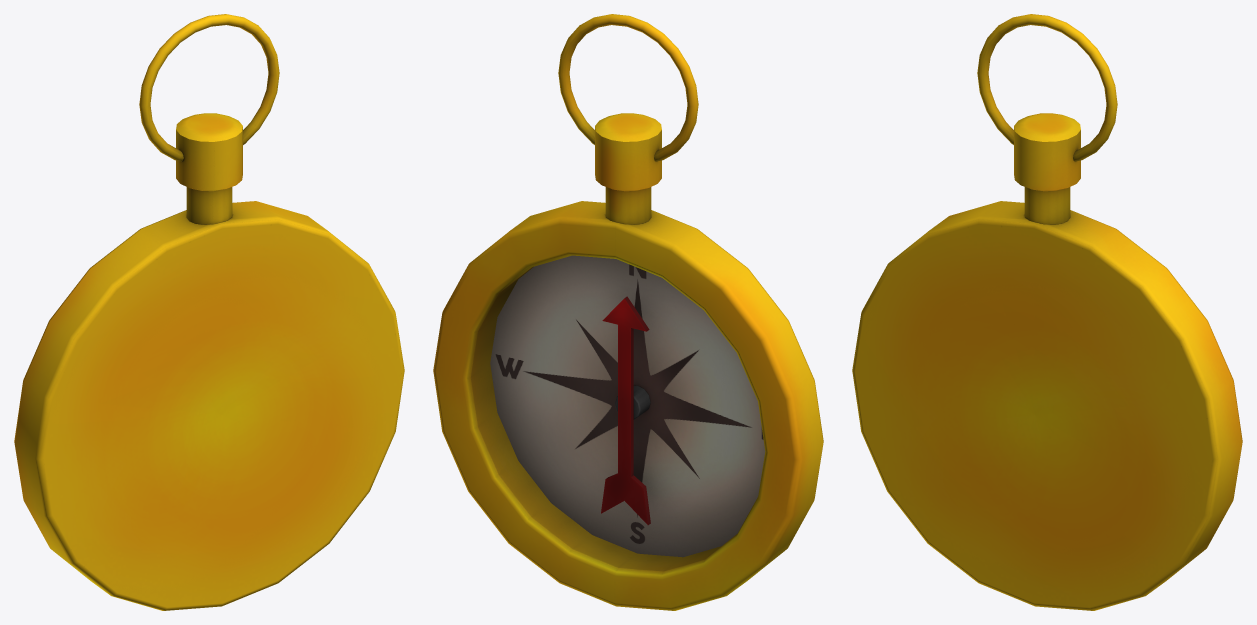
File: Compass.fbx
The picture shows the model from 3 angles, left to right: view 1: azimuth 30°, elevation 25°; view 2: azimuth 150°, elevation 25°; view 3: azimuth 330°, elevation 25°; orthographic projection.
Visible parts, largest first — view 1: Compass; view 2: Compass; view 3: Compass.
Boxes of the visible parts, x1,y1,x2,y2 form: Compass: [14, 14, 404, 610]; Compass: [433, 14, 823, 610]; Compass: [852, 14, 1242, 610].
Size of the model in its own units: 0.1143 by 0.1725 by 0.0181.
